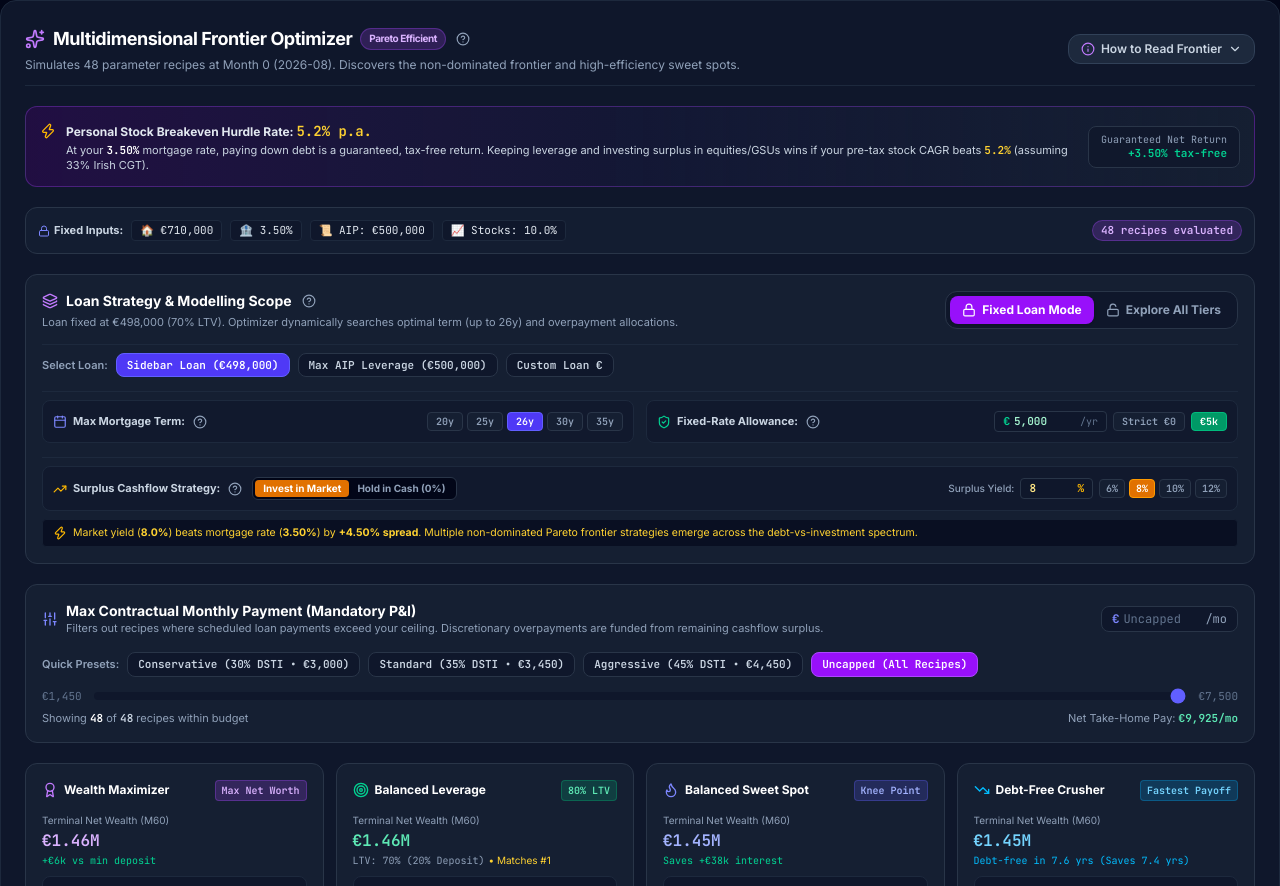
Scenario: FrontierOptimizerCard Component & Custom Loan Reproduction › allows user to click Custom Loan and enter €550,000 without reverting to €498,000
Click "Custom Loan €" button
Click the button "Custom Loan €" at (560, 365), box [506,353,614,377]
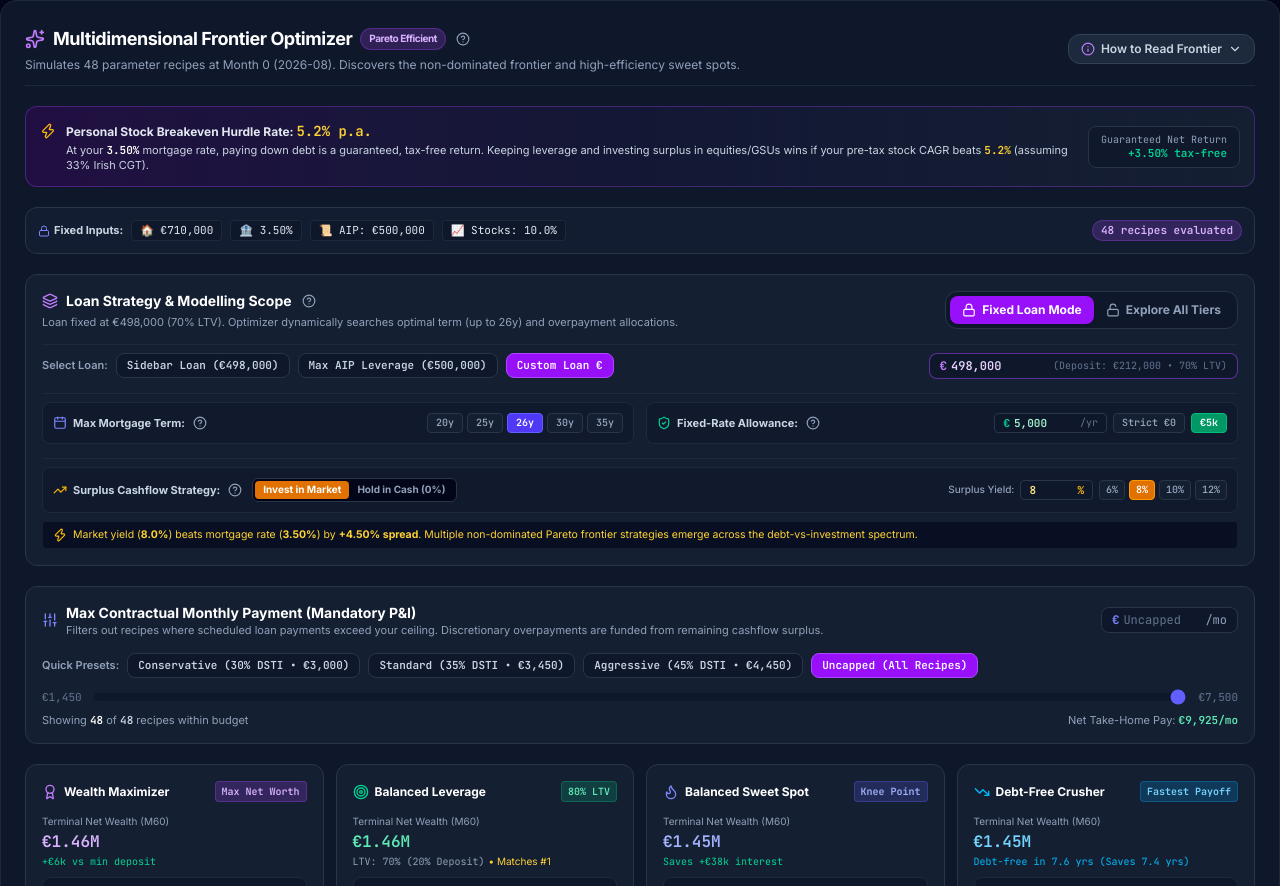
Expected: the field showing "498,000" next to "(Deposit: €" is shown
Focus and type €550,000
Replace the text in the field showing "498,000" next to "(Deposit: €" with "550000" at (999, 366), box [951,358,1047,374]
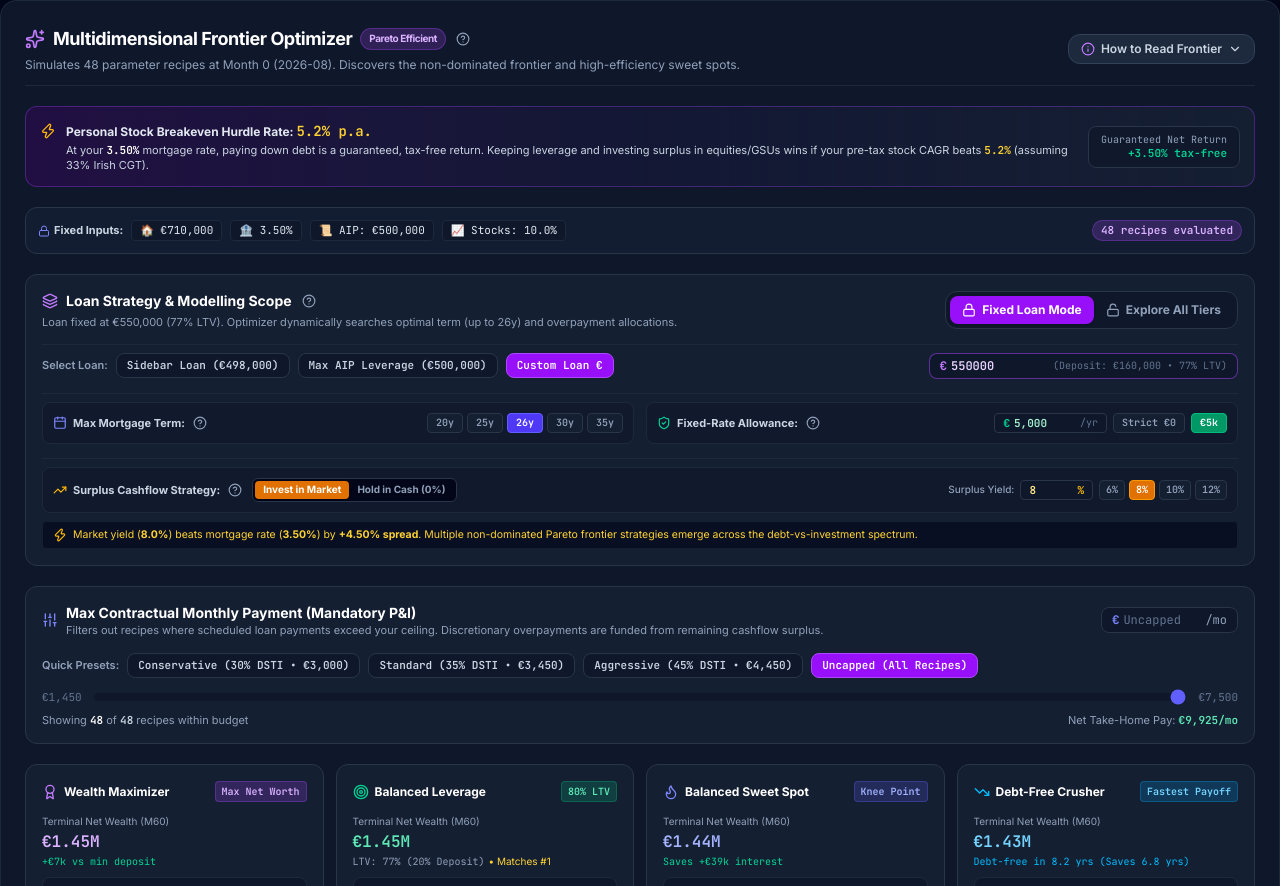
Press Enter or blur
Press Enter in the field showing "498,000" next to "(Deposit: €", box [951,358,1047,374]
Leave the field showing "498,000" next to "(Deposit: €", box [951,358,1047,374]
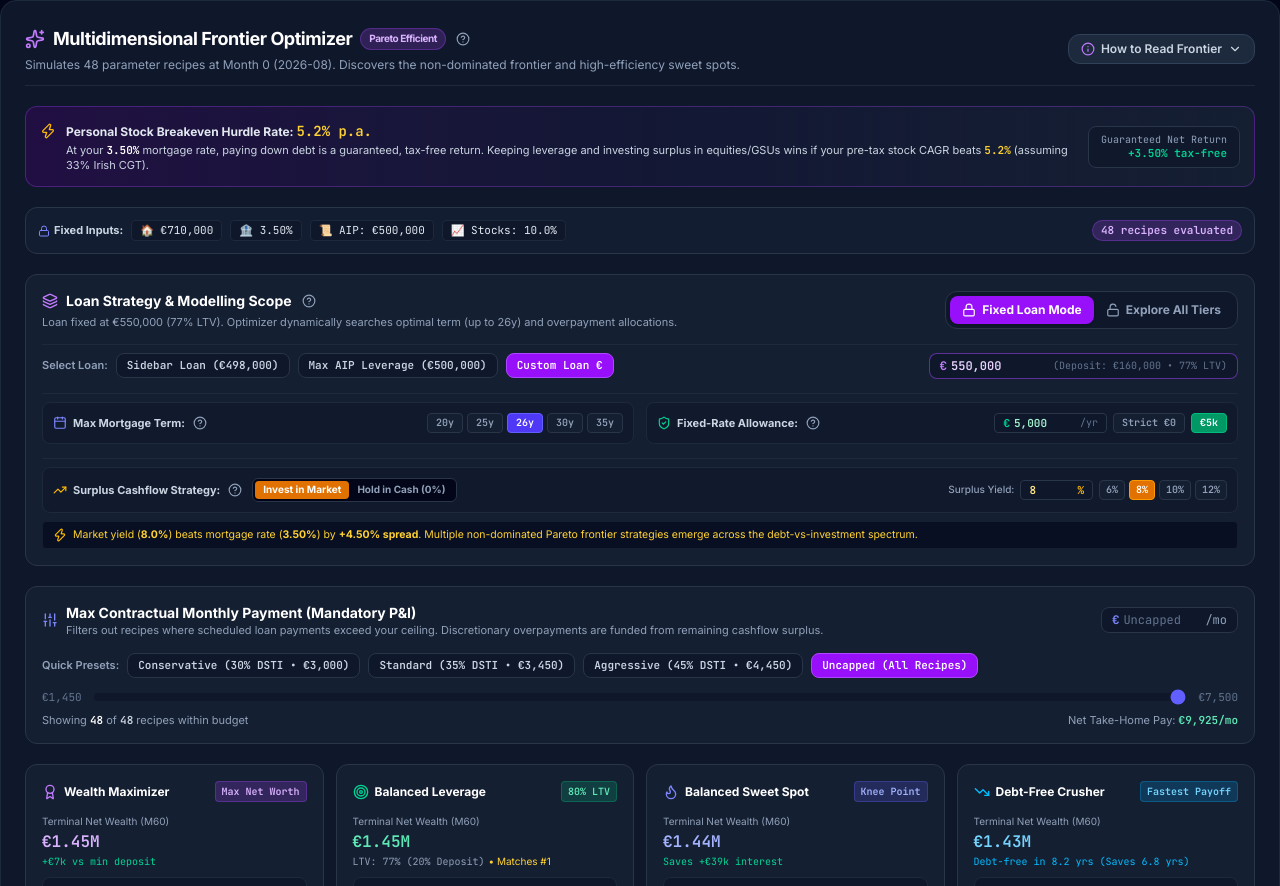
Expected: the text "(Deposit: €160,000 • 77% LTV)" is shown, [1053,359,1227,372]
Expected: the text "Loan fixed at €550,000 (77% LTV)" is shown, [42,315,677,329]
Expected: the field showing "498,000" next to "(Deposit: €" holds "550,000", [951,358,1047,374]
